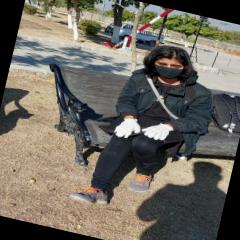gloved: (112, 114, 140, 140), (140, 120, 173, 142)
